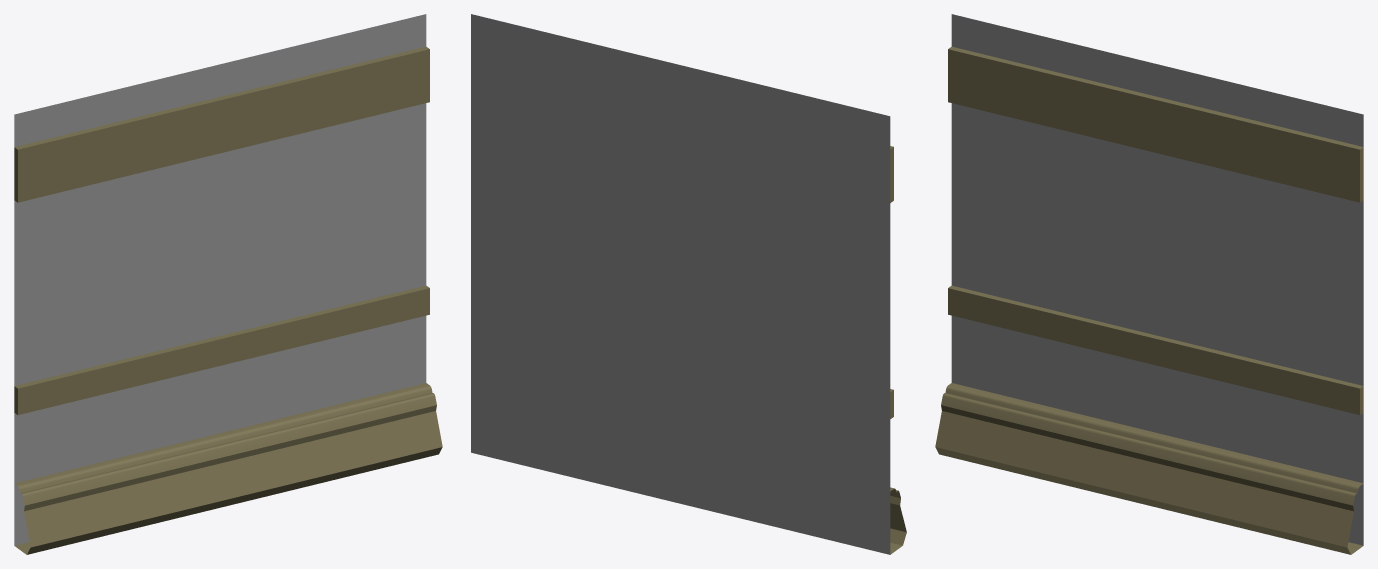
The model's file is wall 1.FBX.
3 views of the same model, side by side, from view 1: azimuth 30°, elevation 25°; view 2: azimuth 150°, elevation 25°; view 3: azimuth 330°, elevation 25° (orthographic).
Parts seen in each view (by area): view 1: Box279404; view 2: Box279404; view 3: Box279404.
Boxes of the visible parts, bbox=[...] form: Box279404: bbox=[14, 14, 442, 554]; Box279404: bbox=[471, 14, 906, 554]; Box279404: bbox=[935, 14, 1363, 554].
Bounding box in the file's own units: 4 × 4 × 0.2751.
